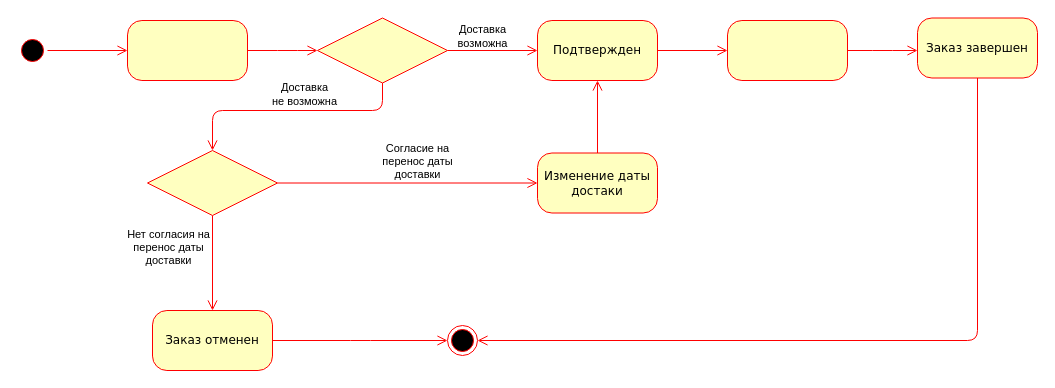
This 1055x388 diagram has some shape labels left out. The centre of each missing label's shape, as x and y in pixels:
"В доставке" belongs at (787,50).
"Заказ оформлен" belongs at (187,50).
